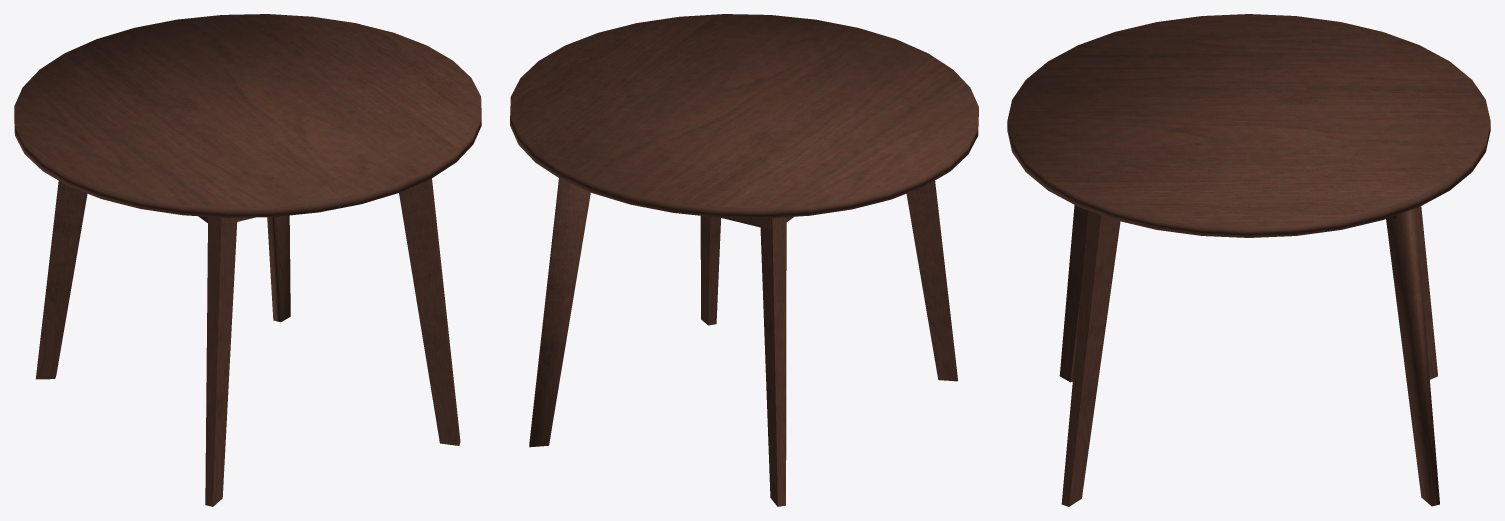
File: ND-0731__GalaWalnut_mesa08_29.glb
The picture shows the model from 3 angles, left to right: view 1: azimuth 30°, elevation 25°; view 2: azimuth 150°, elevation 25°; view 3: azimuth 270°, elevation 25°; orthographic projection. The views are drawn at different scales.
Visible parts, largest first — view 1: Cylinder, Cube, Cube.003, Cube.002, Cube.001; view 2: Cylinder, Cube.001, Cube.002, Cube.003, Cube; view 3: Cylinder, Cube, Cube.001, Cube.003, Cube.002.
Boxes of the visible parts, bbox=[...] form: Cylinder: bbox=[14, 14, 481, 217]; Cube: bbox=[399, 178, 460, 445]; Cube.003: bbox=[205, 217, 237, 506]; Cube.002: bbox=[36, 181, 87, 379]; Cube.001: bbox=[267, 215, 290, 322]; Cylinder: bbox=[510, 14, 978, 218]; Cube.001: bbox=[529, 178, 590, 447]; Cube.002: bbox=[760, 217, 786, 506]; Cube.003: bbox=[906, 181, 957, 381]; Cube: bbox=[700, 216, 720, 325]; Cylinder: bbox=[1007, 14, 1490, 237]; Cube: bbox=[1061, 210, 1120, 506]; Cube.001: bbox=[1386, 208, 1439, 506]; Cube.003: bbox=[1059, 205, 1088, 382]; Cube.002: bbox=[1415, 206, 1437, 379].
Bounding box in the file's own units: 3.36 × 2.35 × 3.22.
9 materials, 9 textured.
